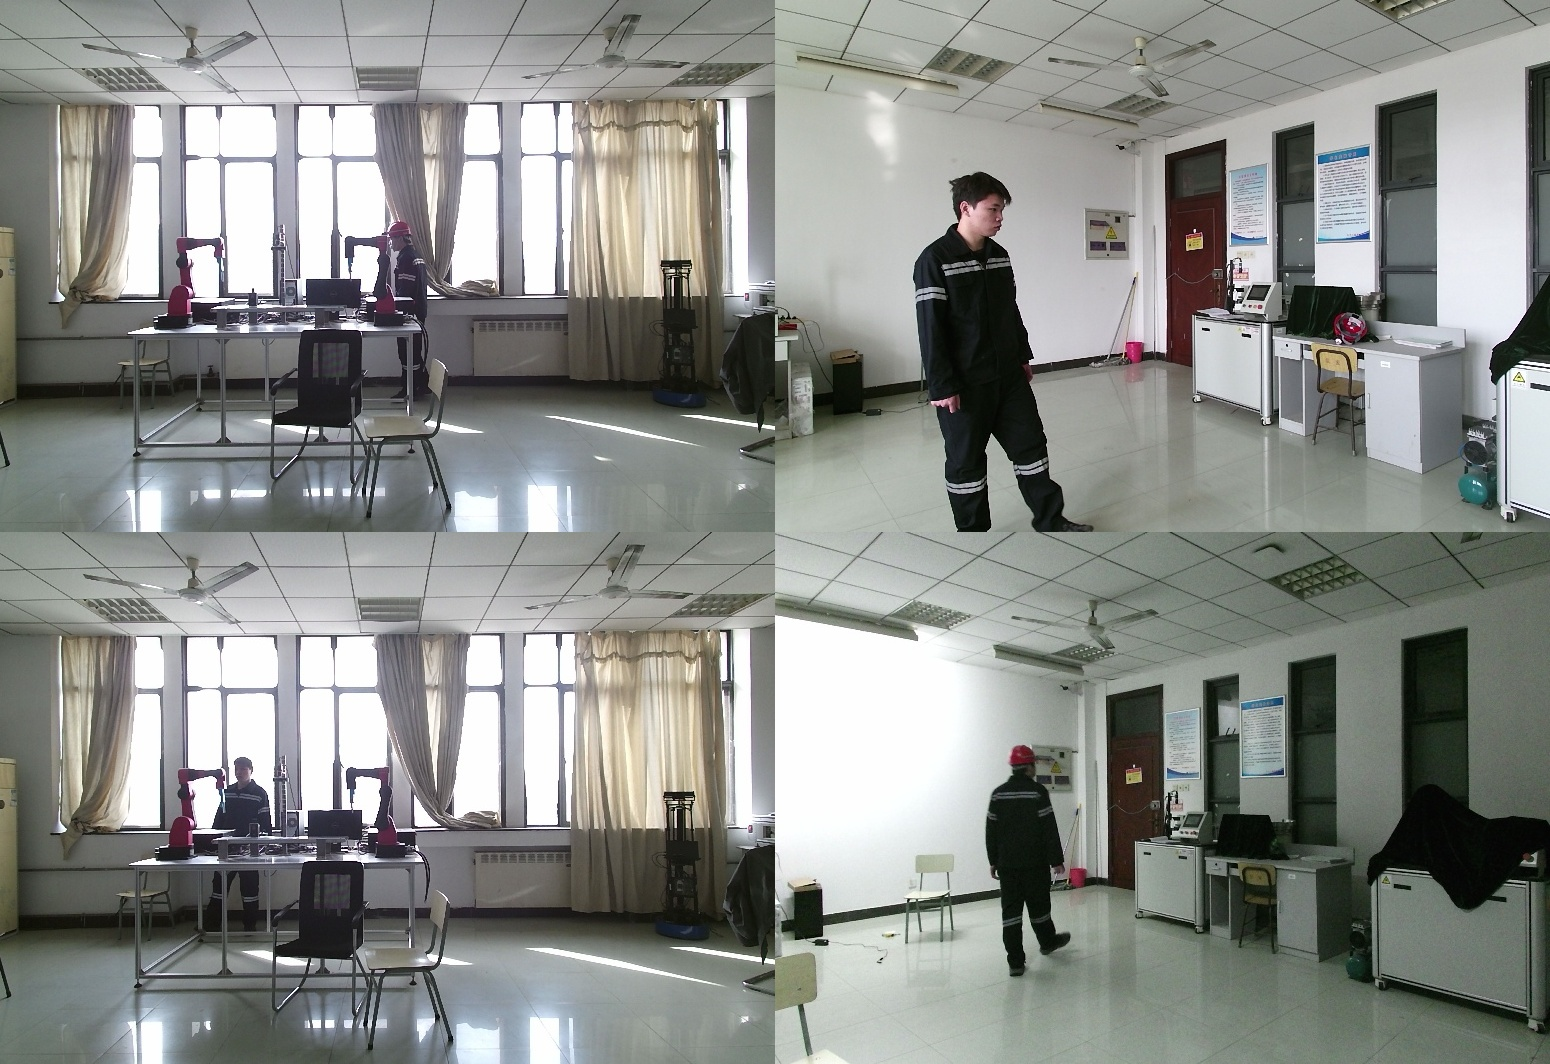person: (911, 174, 1081, 532), (976, 744, 1073, 979), (199, 758, 272, 946), (383, 220, 428, 402)
